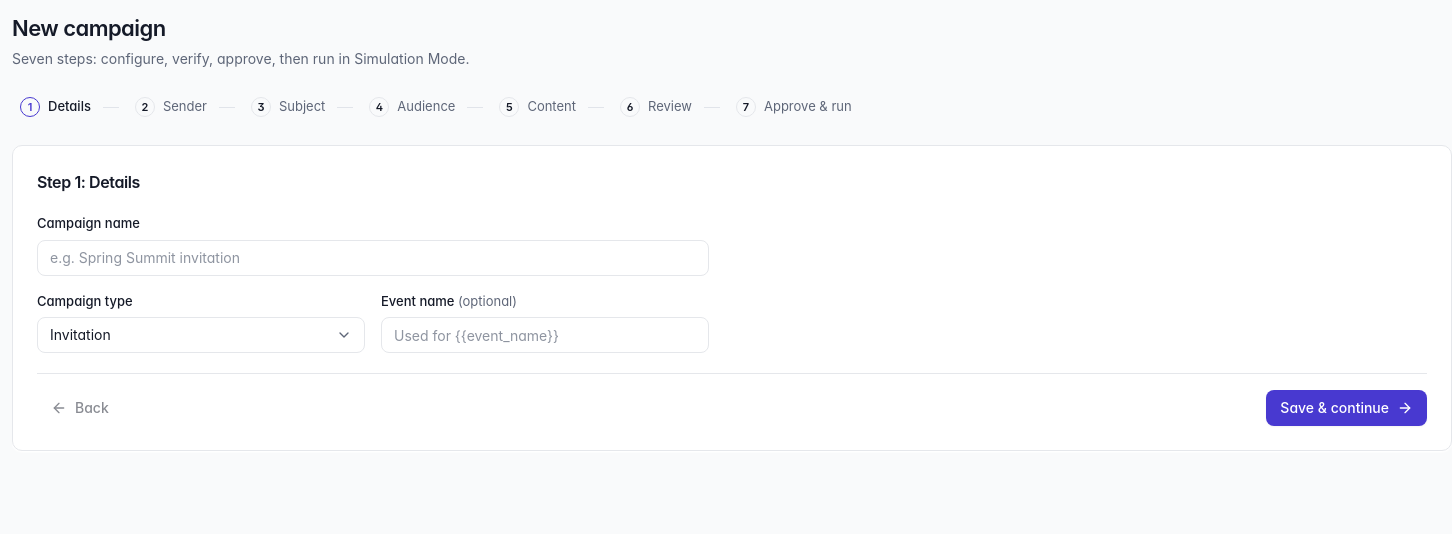
Scenario: Campaign wizard › shows an empty state when there are no audiences, and a save error
In the field labelled "Campaign name": [373, 258] box [37,240,709,276], type "X"
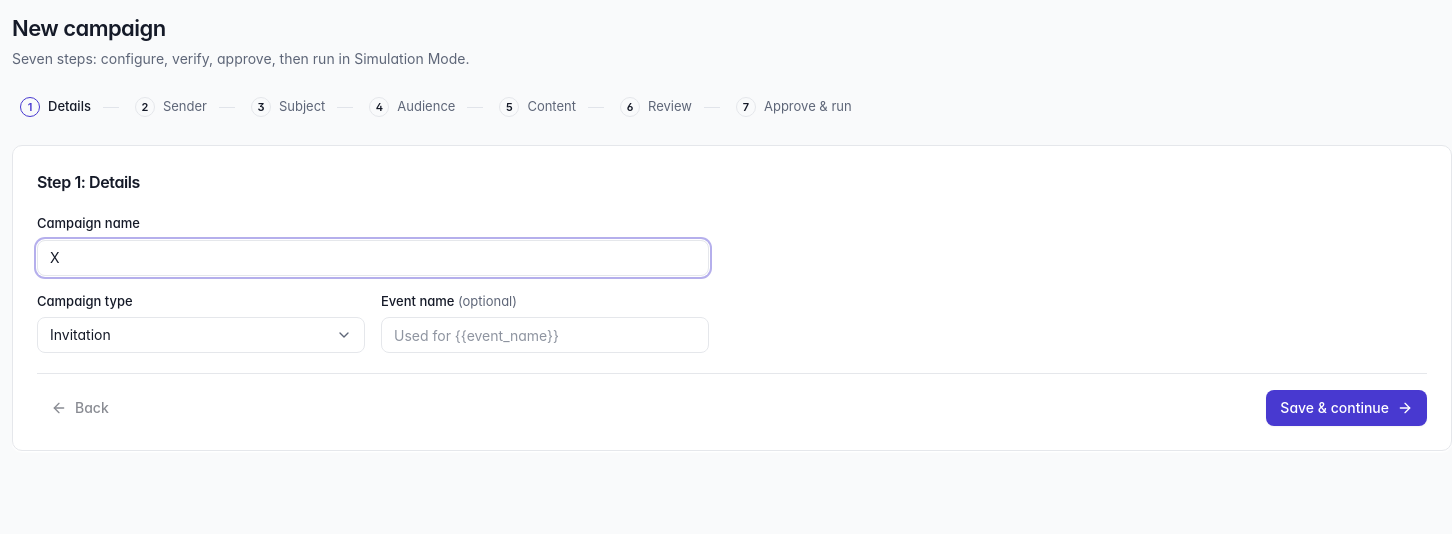
Click the button "Save & continue": [1347, 408] box [1266,390,1427,426]
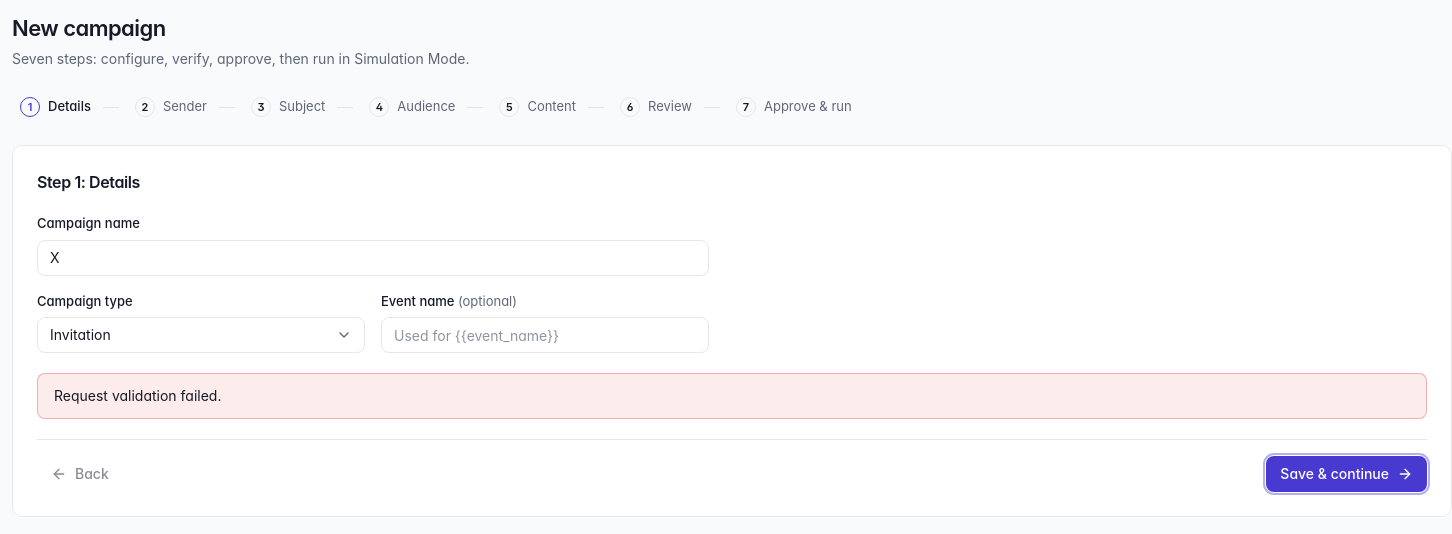
Now the text "Request validation failed." is shown, box [54,387,222,404]
